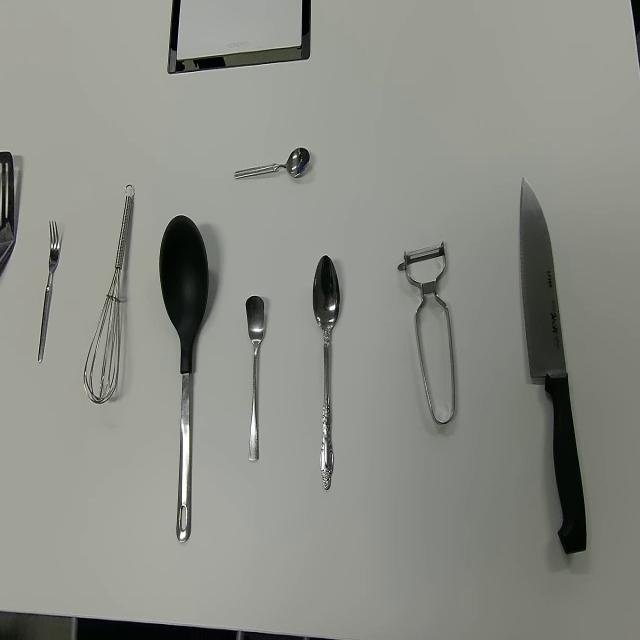Desert-Spoon: (310, 254, 338, 492)
Dinner-Fork: (37, 220, 60, 364)
Kitchen-Knife: (516, 174, 585, 557)
Peeler: (394, 239, 453, 427)
Serving-Spoon: (158, 213, 210, 542), (1, 149, 16, 279)
Tea-Spoon: (243, 294, 263, 462), (233, 144, 310, 182)
Whisk: (83, 184, 135, 405)
